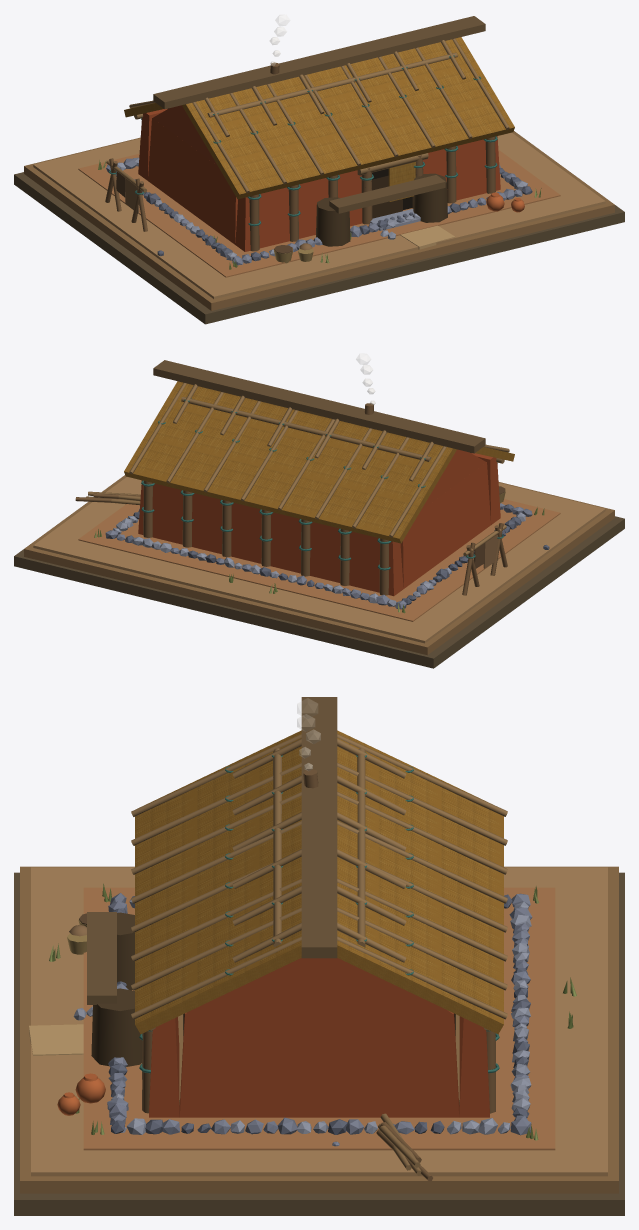
File: civic-longhouse-built.glb
3 views of the same model, one above another, from view 1: azimuth 30°, elevation 25°; view 2: azimuth 150°, elevation 25°; view 3: azimuth 270°, elevation 25° (orthographic). The views are drawn at different scales.
Visible parts, largest first — view 1: mesh_183, Era1DepthKit, mesh_1, mesh_0, mesh_23, mesh_141, mesh_139, mesh_140, mesh_218, mesh_142, mesh_138, mesh_309 (+14 smaller); view 2: mesh_184, mesh_1, Era1DepthKit, mesh_138, mesh_23, mesh_0, mesh_141, mesh_219, mesh_142, mesh_139, mesh_166, mesh_151 (+7 smaller); view 3: mesh_1, Era1DepthKit, mesh_143, mesh_183, mesh_184, mesh_23, mesh_0, mesh_144, mesh_138, mesh_140, mesh_309, mesh_218 (+18 smaller).
Part boxes in pixels (x1=…): mesh_183: x1=182, y1=37, x2=514, y2=199; Era1DepthKit: x1=14, y1=16, x2=624, y2=324; mesh_1: x1=33, y1=132, x2=605, y2=299; mesh_0: x1=24, y1=131, x2=614, y2=310; mesh_23: x1=78, y1=149, x2=560, y2=277; mesh_141: x1=148, y1=117, x2=237, y2=244; mesh_139: x1=235, y1=170, x2=362, y2=251; mesh_140: x1=423, y1=136, x2=500, y2=200; mesh_218: x1=207, y1=52, x2=457, y2=117; mesh_142: x1=152, y1=105, x2=217, y2=165; mesh_138: x1=138, y1=108, x2=167, y2=180; mesh_309: x1=400, y1=225, x2=454, y2=249; mesh_184: x1=124, y1=381, x2=456, y2=543; mesh_1: x1=33, y1=477, x2=605, y2=643; Era1DepthKit: x1=14, y1=360, x2=624, y2=668; mesh_138: x1=138, y1=480, x2=403, y2=596; mesh_23: x1=78, y1=493, x2=560, y2=621; mesh_0: x1=24, y1=475, x2=614, y2=655; mesh_141: x1=400, y1=462, x2=490, y2=588; mesh_219: x1=181, y1=397, x2=431, y2=461; mesh_142: x1=421, y1=449, x2=486, y2=509; mesh_139: x1=471, y1=453, x2=500, y2=524; mesh_166: x1=222, y1=500, x2=231, y2=557; mesh_151: x1=340, y1=529, x2=349, y2=585; mesh_1: x1=31, y1=867, x2=607, y2=1176; Era1DepthKit: x1=14, y1=697, x2=624, y2=1215; mesh_143: x1=179, y1=1013, x2=459, y2=1117; mesh_183: x1=135, y1=730, x2=301, y2=1034; mesh_184: x1=337, y1=730, x2=503, y2=1034; mesh_23: x1=83, y1=887, x2=555, y2=1150; mesh_0: x1=20, y1=866, x2=618, y2=1193; mesh_144: x1=186, y1=958, x2=452, y2=1013; mesh_138: x1=459, y1=1016, x2=489, y2=1117; mesh_140: x1=149, y1=1017, x2=179, y2=1117; mesh_309: x1=29, y1=1024, x2=83, y2=1055; mesh_218: x1=273, y1=748, x2=281, y2=947.
Size of the model in its own units: 21.32 by 9.76 by 16.83.
36 materials, 3 textured.
